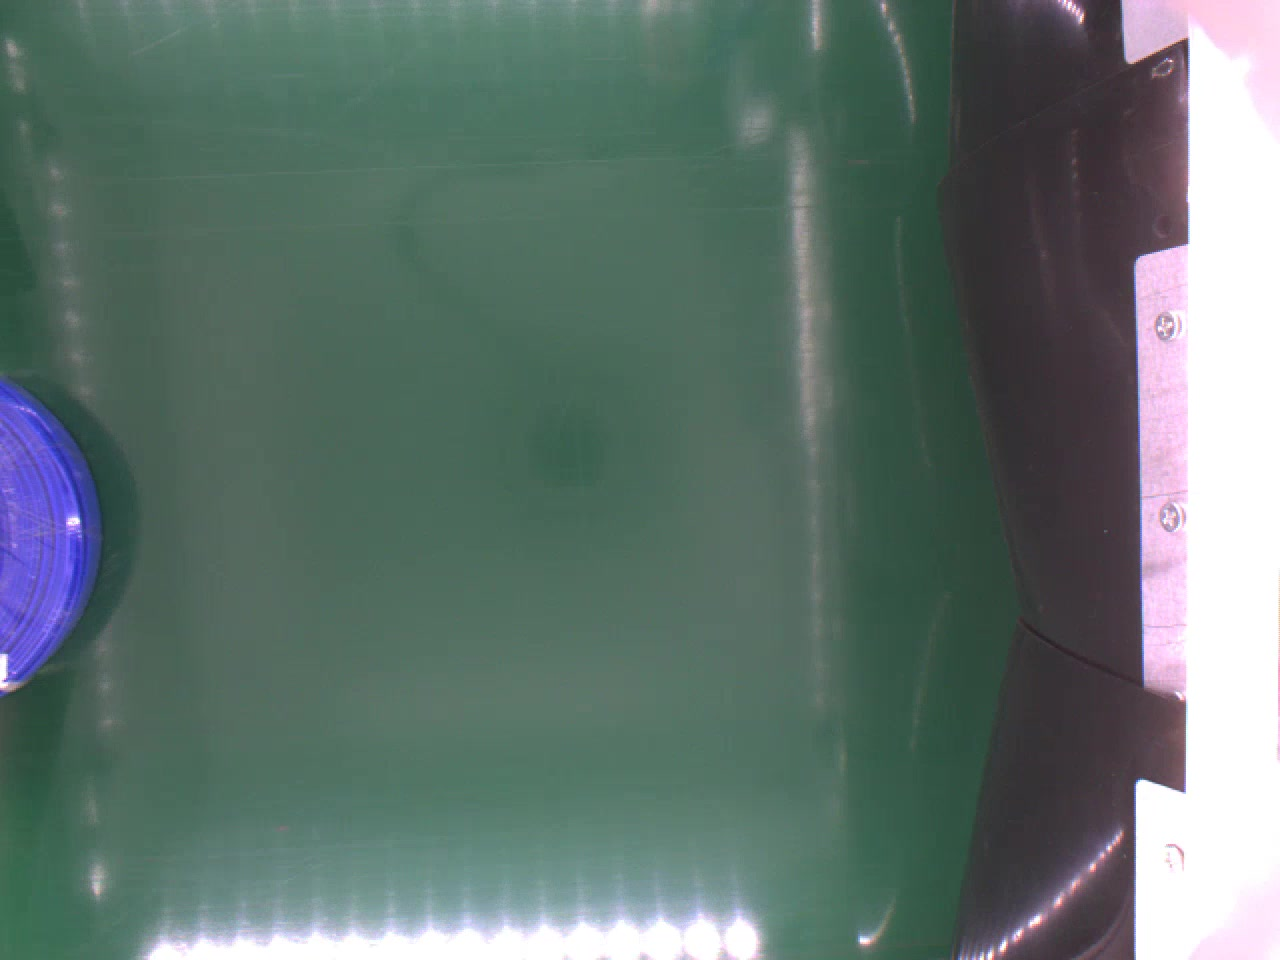blue: (0, 380, 102, 699)
